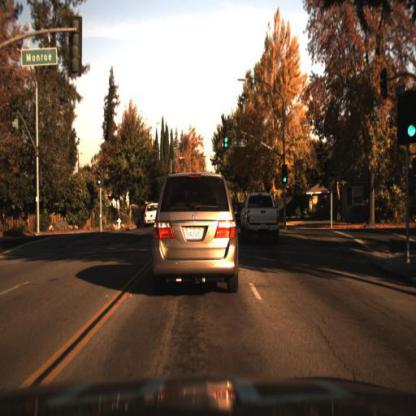car: (153, 169, 241, 295), (243, 191, 283, 239), (145, 199, 163, 234)
trafficLight: (223, 127, 231, 152)
trafficLight-Green: (284, 163, 293, 187)
trafficLight-GreenLeft: (94, 168, 105, 190)
